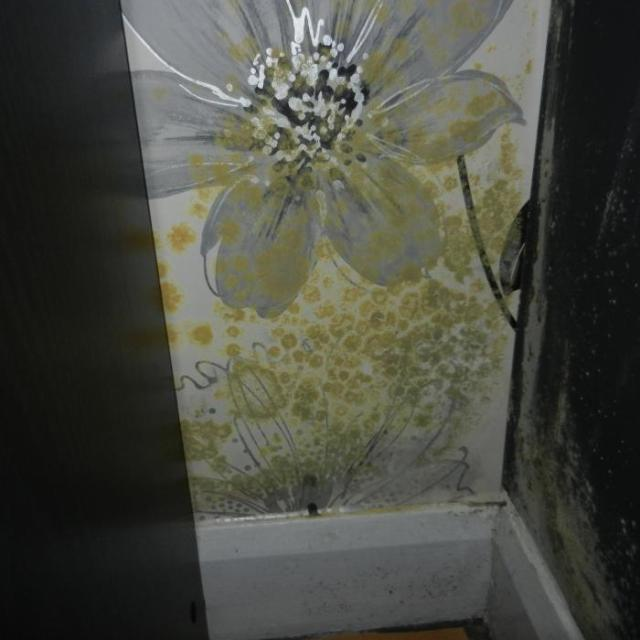mold: (217, 77, 639, 639), (217, 77, 639, 639)
